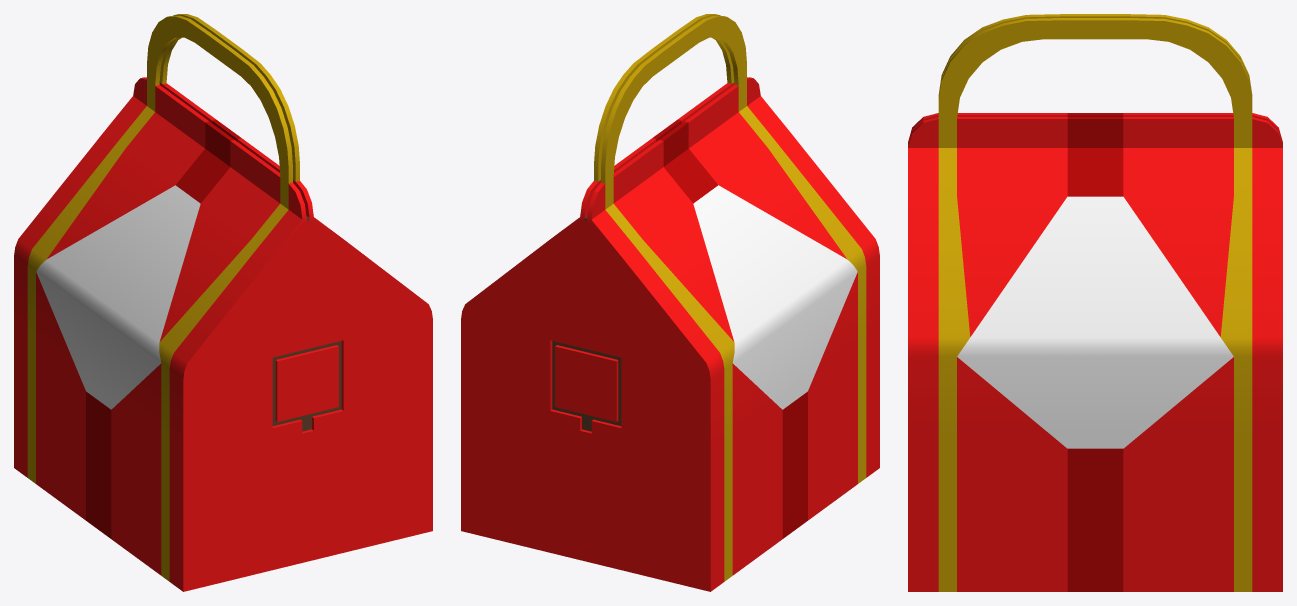
The model's file is Packaging_02.glb.
3 views of the same model, side by side, from view 1: azimuth 30°, elevation 25°; view 2: azimuth 150°, elevation 25°; view 3: azimuth 270°, elevation 25° (orthographic). The views are drawn at different scales.
Parts seen in each view (by area): view 1: Mesh_Packaging_02; view 2: Mesh_Packaging_02; view 3: Mesh_Packaging_02.
Boxes of the visible parts, bbox=[...] form: Mesh_Packaging_02: bbox=[14, 14, 432, 591]; Mesh_Packaging_02: bbox=[461, 14, 879, 591]; Mesh_Packaging_02: bbox=[908, 14, 1282, 591].
Bounding box in the file's own units: 0.134 × 0.2353 × 0.1575.
1 material, 1 textured.
